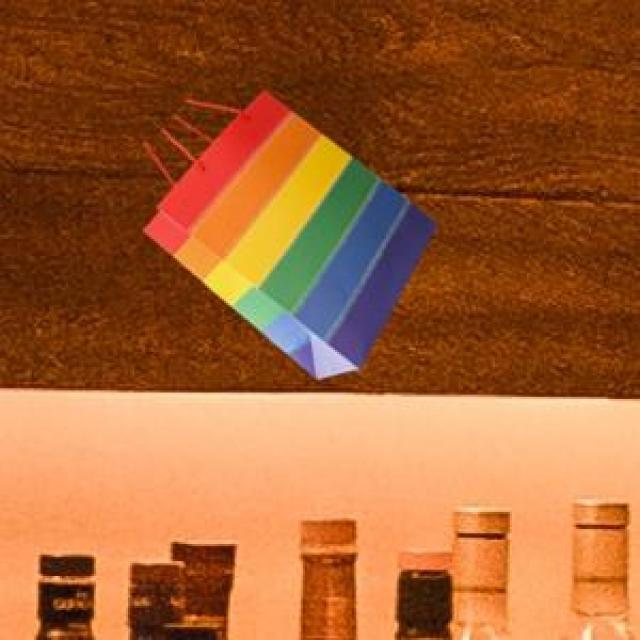Paper_Bag: (142, 88, 434, 374)
